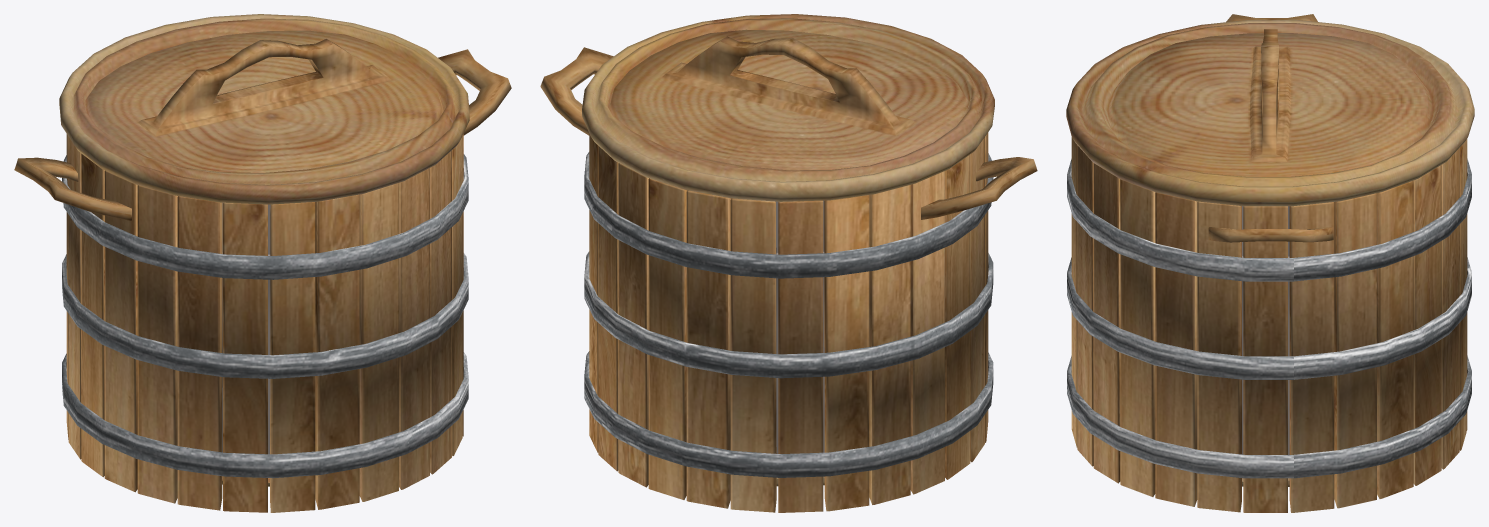
The model's file is BarrilFBX.fbx.
3 renders of one model, left to right at view 1: azimuth 30°, elevation 25°; view 2: azimuth 150°, elevation 25°; view 3: azimuth 270°, elevation 25°, orthographic.
Parts seen in each view (by area): view 1: Barril:Barrel_flowers_Barrel_flowers_Barrel_flowers, Barril:Cap_barrel_flowers_Cap_barrel_flowers_Barrel_flowers; view 2: Barril:Barrel_flowers_Barrel_flowers_Barrel_flowers, Barril:Cap_barrel_flowers_Cap_barrel_flowers_Barrel_flowers; view 3: Barril:Barrel_flowers_Barrel_flowers_Barrel_flowers, Barril:Cap_barrel_flowers_Cap_barrel_flowers_Barrel_flowers.
Part boxes in pixels (bbox=[...]): Barril:Barrel_flowers_Barrel_flowers_Barrel_flowers: bbox=[14, 49, 511, 512]; Barril:Cap_barrel_flowers_Cap_barrel_flowers_Barrel_flowers: bbox=[59, 14, 469, 204]; Barril:Barrel_flowers_Barrel_flowers_Barrel_flowers: bbox=[540, 47, 1037, 512]; Barril:Cap_barrel_flowers_Cap_barrel_flowers_Barrel_flowers: bbox=[582, 14, 994, 201]; Barril:Barrel_flowers_Barrel_flowers_Barrel_flowers: bbox=[1067, 14, 1471, 512]; Barril:Cap_barrel_flowers_Cap_barrel_flowers_Barrel_flowers: bbox=[1066, 19, 1474, 206].
Size of the model in its own units: 2.66 by 2.15 by 2.08.
Materials: 1 (1 with a texture image).
